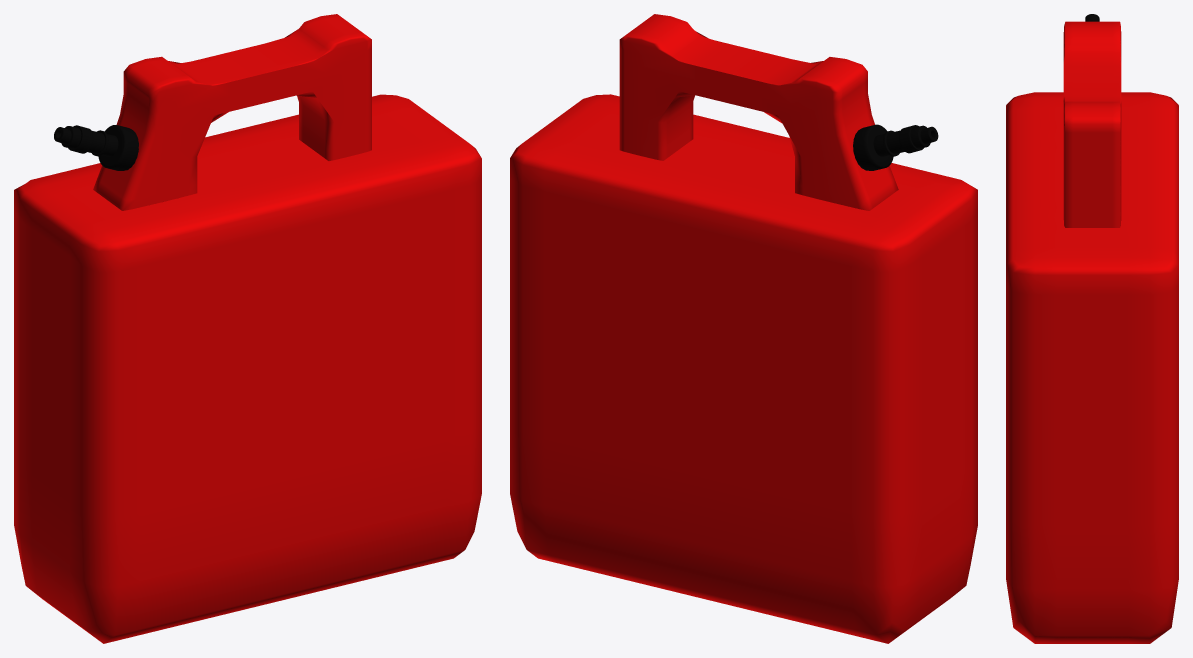
File: gasolineContainer.fbx
The picture shows the model from 3 angles, left to right: view 1: azimuth 30°, elevation 25°; view 2: azimuth 150°, elevation 25°; view 3: azimuth 270°, elevation 25°; orthographic projection. The views are drawn at different scales.
Visible parts, largest first — view 1: pCube1, pCylinder1, pCylinder2; view 2: pCube1, pCylinder1, pCylinder2; view 3: pCube1.
Part boxes in pixels (left/top/right/bottom): pCube1: left=14, top=14, right=481, bottom=643; pCylinder1: left=98, top=125, right=138, bottom=170; pCylinder2: left=61, top=126, right=118, bottom=156; pCube1: left=510, top=14, right=977, bottom=643; pCylinder1: left=853, top=124, right=893, bottom=170; pCylinder2: left=873, top=125, right=930, bottom=156; pCube1: left=1006, top=21, right=1178, bottom=643.
Size of the model in its own units: 5.77 by 7.42 by 2.34.
